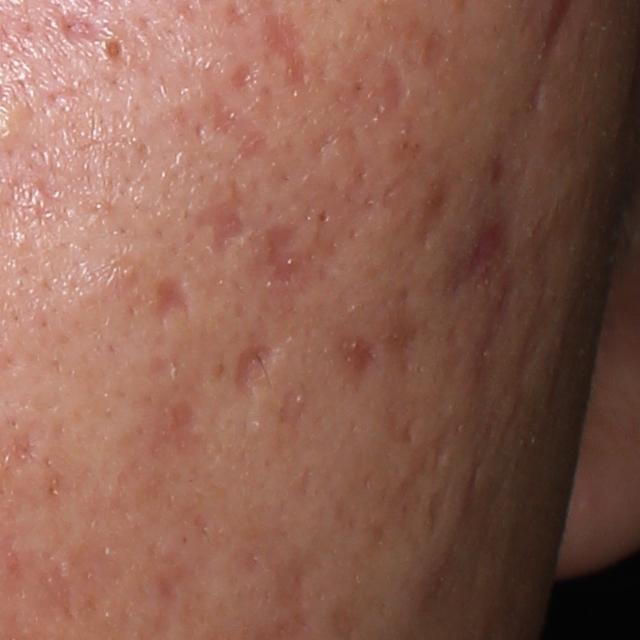atrophic_scar: (437, 208, 519, 302), (249, 218, 309, 295), (197, 179, 254, 257), (149, 393, 212, 462), (414, 165, 461, 249), (363, 49, 413, 126), (380, 306, 432, 375), (232, 338, 285, 403), (331, 335, 379, 391), (152, 272, 197, 331), (207, 87, 250, 138), (310, 122, 344, 166), (427, 479, 452, 531), (226, 59, 263, 93), (62, 11, 99, 44), (521, 77, 546, 115), (226, 0, 250, 31)
comedo: (96, 33, 134, 66)
